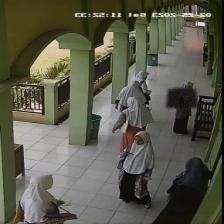Cadar_Niqab: (166, 79, 197, 107)
